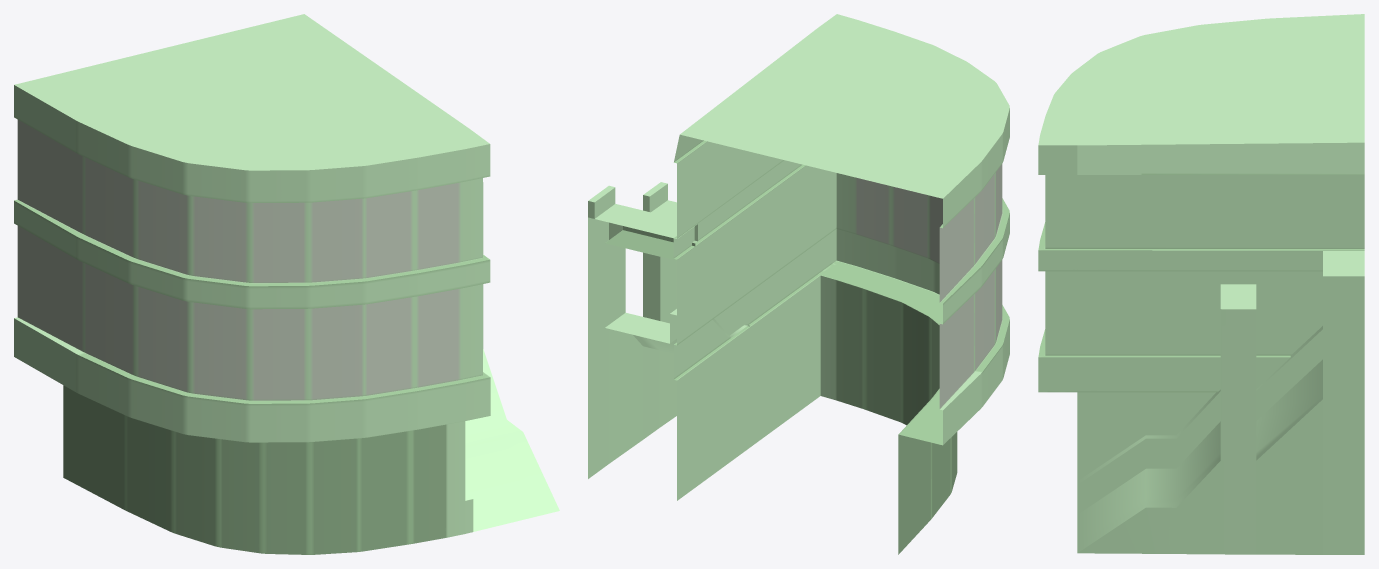
Rendered from Boss_B.fbx.
3 renders of one model, left to right at view 1: azimuth 30°, elevation 25°; view 2: azimuth 150°, elevation 25°; view 3: azimuth 270°, elevation 25°, orthographic. The views are drawn at different scales.
Visible parts, largest first — view 1: Boss_B_m; view 2: Boss_B_m; view 3: Boss_B_m.
Part boxes in pixels (bbox=[...]): Boss_B_m: bbox=[14, 14, 559, 554]; Boss_B_m: bbox=[588, 14, 1009, 554]; Boss_B_m: bbox=[1038, 14, 1364, 554].
Bounding box in the file's own units: 1291 × 1276 × 1027.
